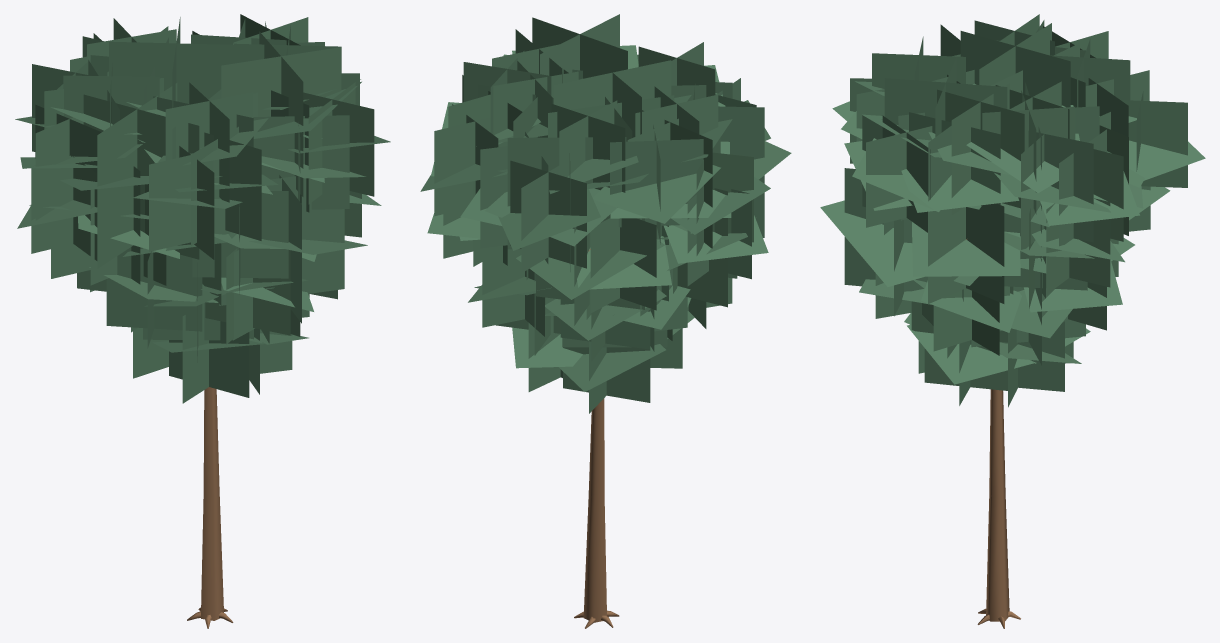
Rendered from pin_3_loin.glb.
3 renders of one model, left to right at view 1: azimuth 30°, elevation 25°; view 2: azimuth 150°, elevation 25°; view 3: azimuth 270°, elevation 25°, orthographic. The views are drawn at different scales.
Parts seen in each view (by area): view 1: Pin_T3_Leger_Loin; view 2: Pin_T3_Leger_Loin; view 3: Pin_T3_Leger_Loin.
Part boxes in pixels (box(x1,y1,x2,y2)): Pin_T3_Leger_Loin: box(15, 14, 390, 628); Pin_T3_Leger_Loin: box(420, 14, 791, 628); Pin_T3_Leger_Loin: box(820, 14, 1205, 628).
Bounding box in the file's own units: 10.27 × 17.17 × 10.69.
